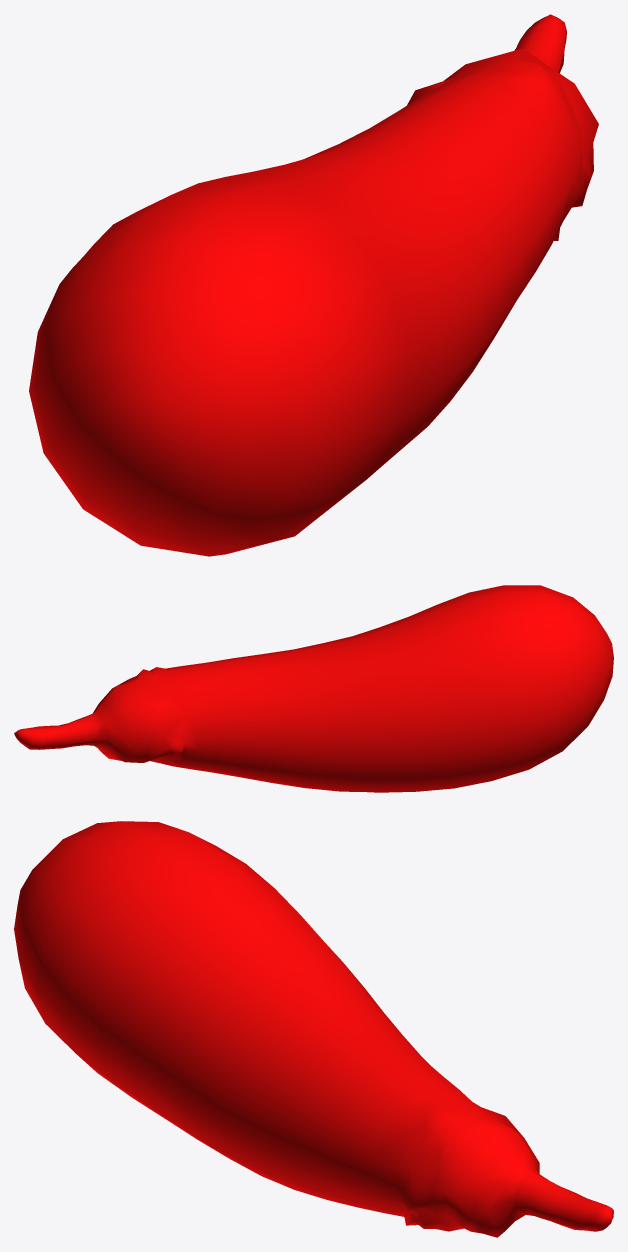
File: baklazhan.fbx
3 renders of one model, top to bottom at view 1: azimuth 30°, elevation 25°; view 2: azimuth 150°, elevation 25°; view 3: azimuth 270°, elevation 25°, orthographic. The views are drawn at different scales.
Visible parts, largest first — view 1: baklazhan; view 2: baklazhan; view 3: baklazhan.
Part boxes in pixels (box(x1,y1,x2,y2)): baklazhan: box(29, 14, 598, 556); baklazhan: box(14, 585, 613, 792); baklazhan: box(14, 821, 613, 1237).
Bounding box in the file's own units: 0.1814 × 0.0752 × 0.1579.
